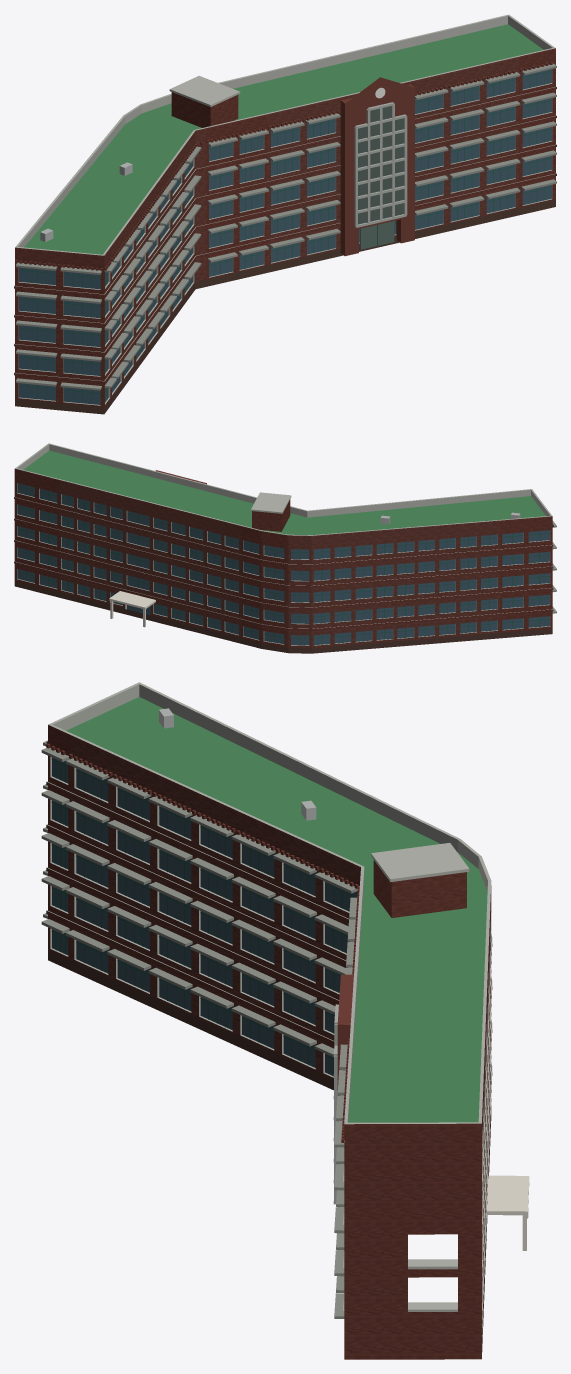
3 views of the same model, one above another, from view 1: azimuth 30°, elevation 25°; view 2: azimuth 150°, elevation 25°; view 3: azimuth 270°, elevation 25° (orthographic). The views are drawn at different scales.
Parts seen in each view (by area): view 1: main__glass, main__brick, main__roof, main__wall-plaster, main__window-hood-concrete, main__trim-concrete, main__clock-bay-left, main__frame, main__base-stone, main__clock-grid-vertical, main__clock-glass-lower, main__door-glass (+1 smaller); view 2: main__wall-plaster, main__glass, main__brick, main__trim-concrete, main__roof, main__frame, main__base-stone, main__canopy-concrete; view 3: main__roof, main__brick, main__wall-plaster, main__glass, main__trim-concrete, main__window-hood-concrete, main__frame, main__base-stone, main__canopy-concrete, main__clock-bay-left.
Boxes of the visible parts, x1,y1,x2,y2 form: main__glass: (19,69,551,404); main__brick: (14,48,556,407); main__roof: (24,24,543,254); main__wall-plaster: (111,57,519,397); main__window-hood-concrete: (16,63,556,390); main__trim-concrete: (14,14,556,405); main__clock-bay-left: (340,84,414,256); main__frame: (19,71,551,404); main__base-stone: (15,199,555,414); main__clock-grid-vertical: (354,102,407,227); main__clock-glass-lower: (358,106,403,224); main__door-glass: (360,221,394,249); main__wall-plaster: (59,480,499,648); main__glass: (17,483,549,645); main__brick: (14,468,553,647); main__trim-concrete: (14,443,553,645); main__roof: (23,450,545,535); main__frame: (17,485,550,644); main__base-stone: (14,581,552,653); main__canopy-concrete: (109,591,155,627); main__roof: (66,697,487,1122); main__brick: (46,725,492,1359); main__wall-plaster: (70,735,490,1298); main__glass: (52,757,357,1075); main__trim-concrete: (46,682,492,1336); main__window-hood-concrete: (41,740,357,1318); main__frame: (51,759,356,1076); main__base-stone: (48,949,491,1351); main__canopy-concrete: (486,1175,529,1250); main__clock-bay-left: (337,974,353,1250).
Size of the model in its own units: 79.84 by 22.05 by 37.06.
17 materials, 2 textured.
